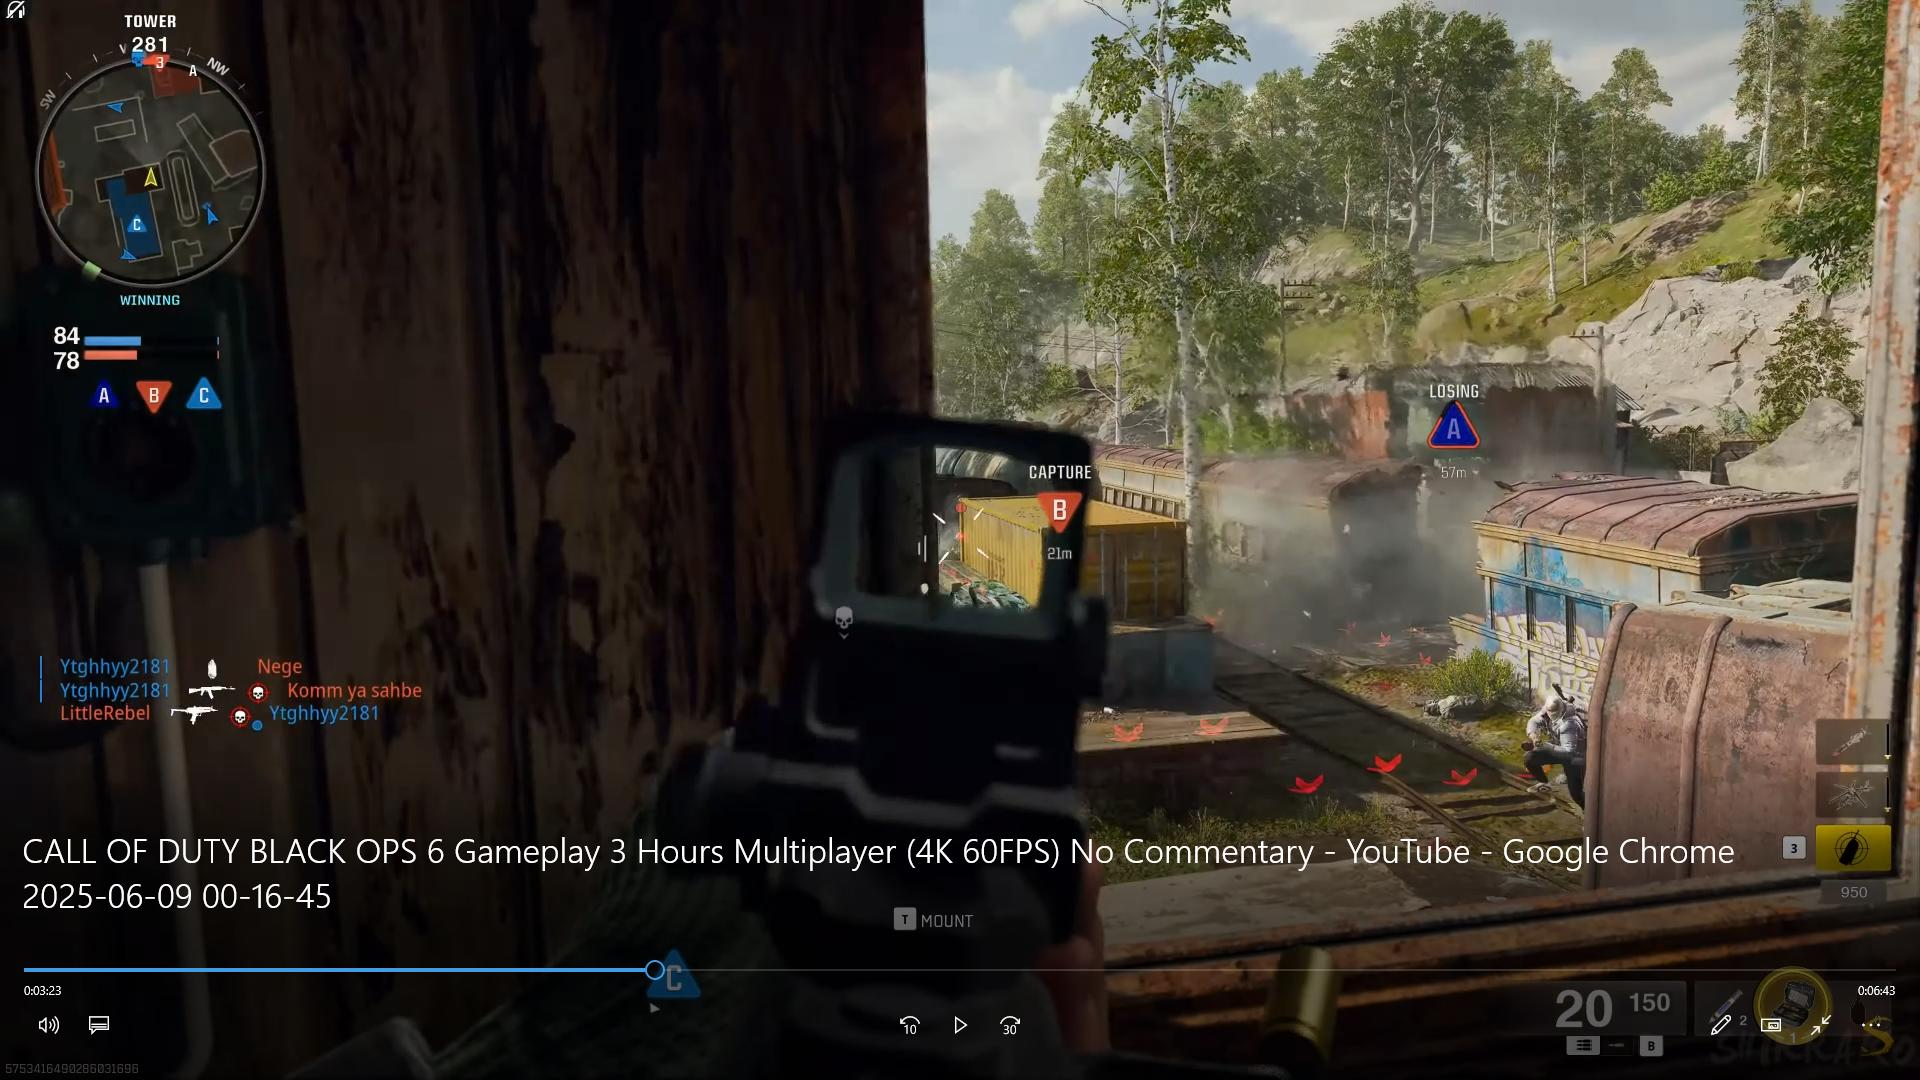Enemy: (1514, 692, 1592, 812)
